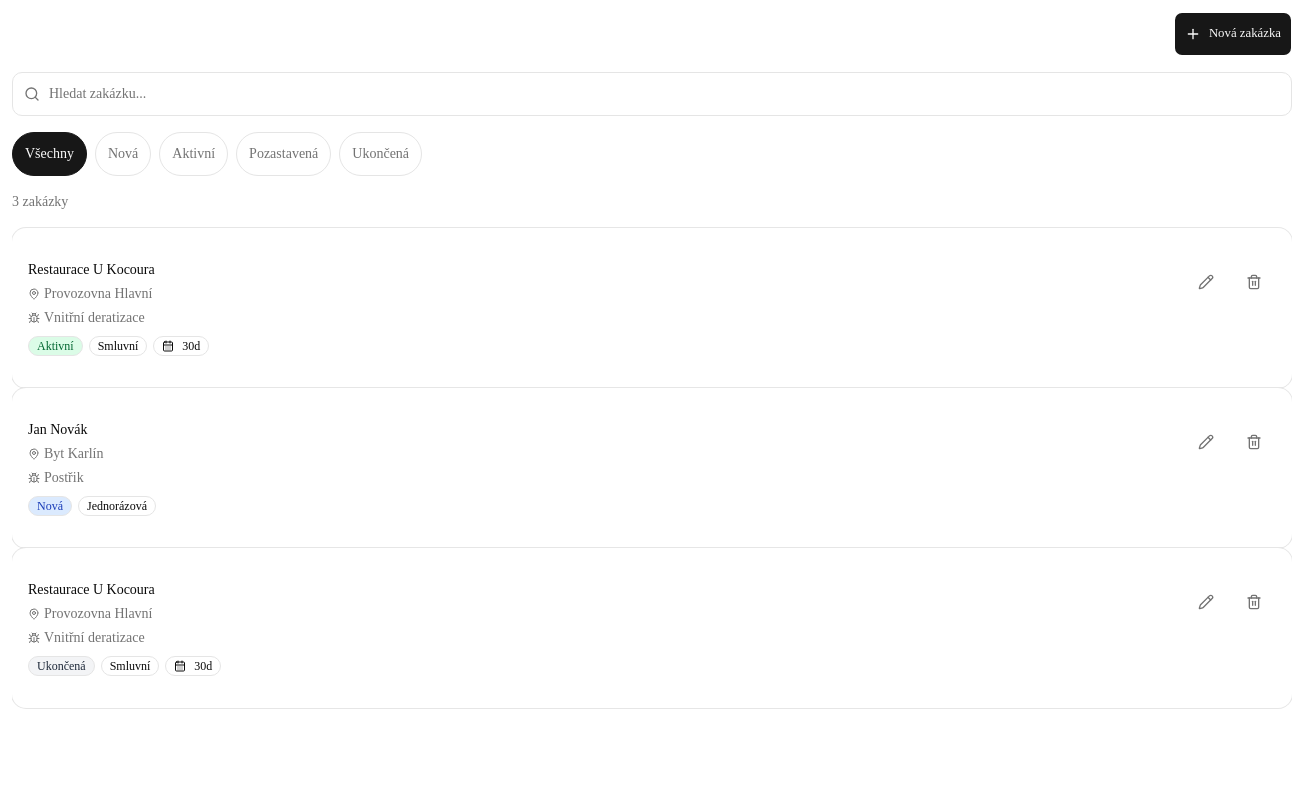
Test: ZakazkyList › filters by search text
Step 1. Type "Karlín" into the field with placeholder "Hledat zakázku..." → coordinates (652, 94), box [12,72,1292,116]
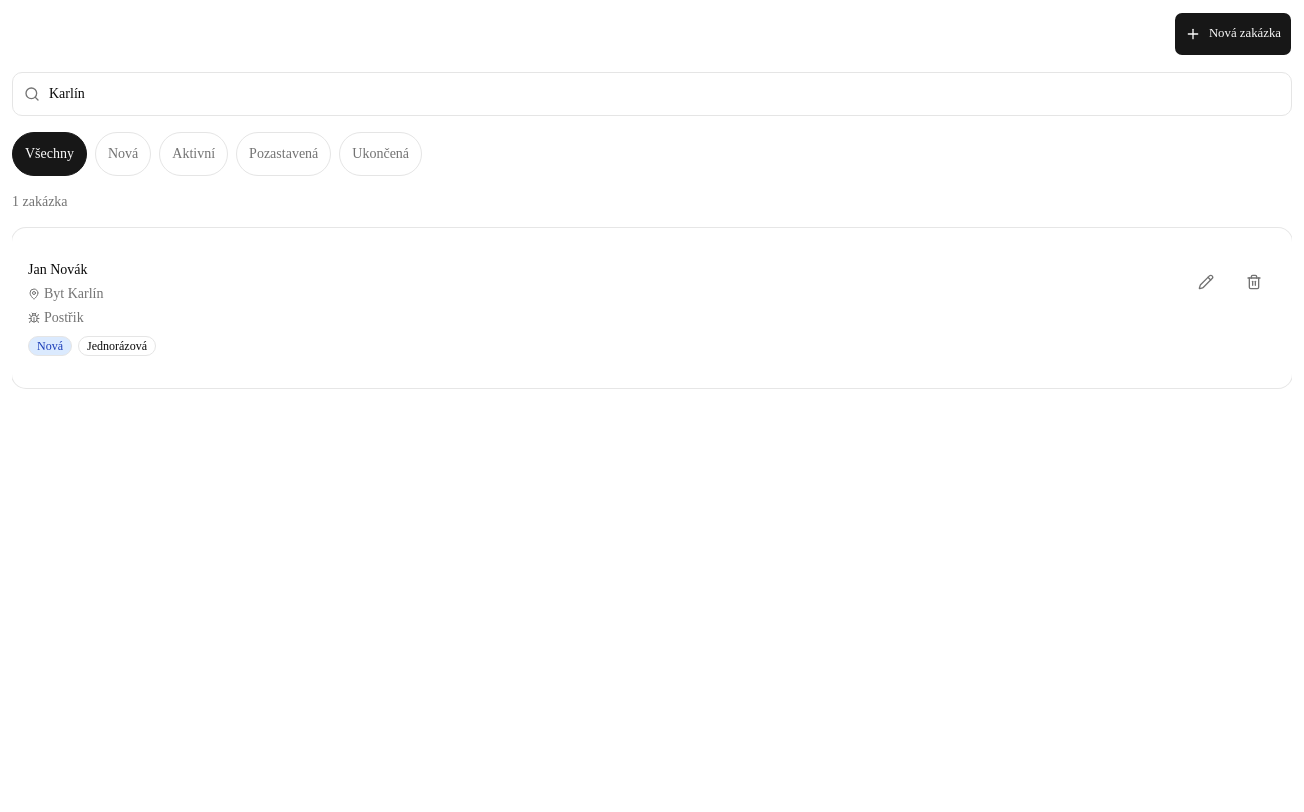
expect the text "Jan Novák" is shown: met, box [28,262,88,277]
expect the text "1 zakázka" is shown: met, box [12,194,68,209]
